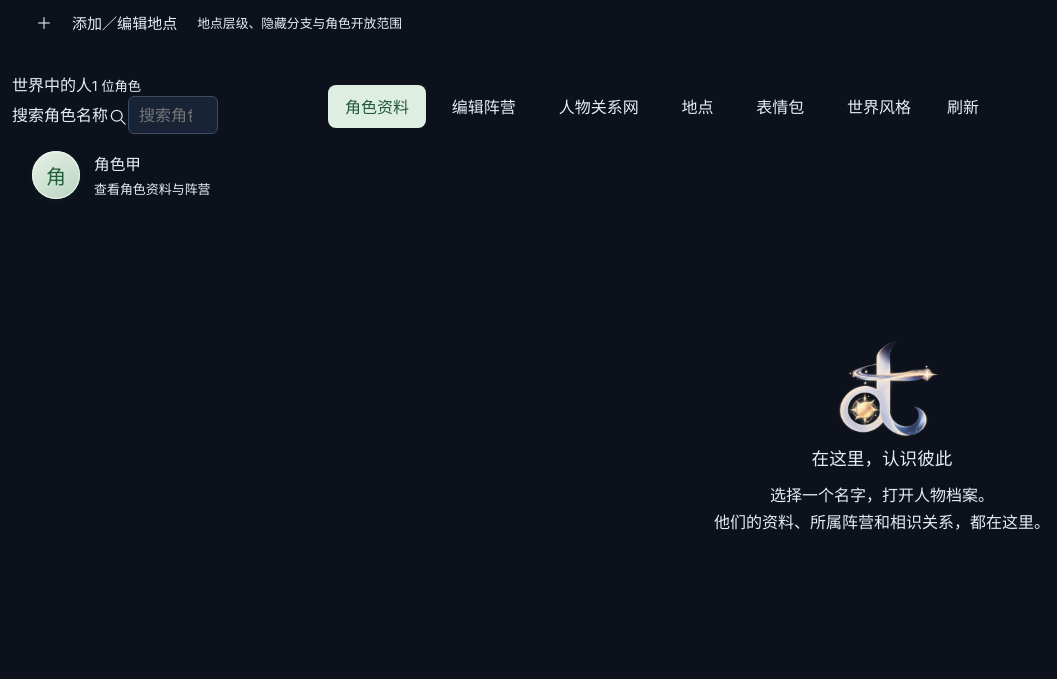
Test: shows the imported greeting as source preview without creating a chat message
The width and height of the screenshot is (1057, 679).
Click the button named "角色甲查看角色资料与阵营": (56, 175) 12,134 -> 312,216
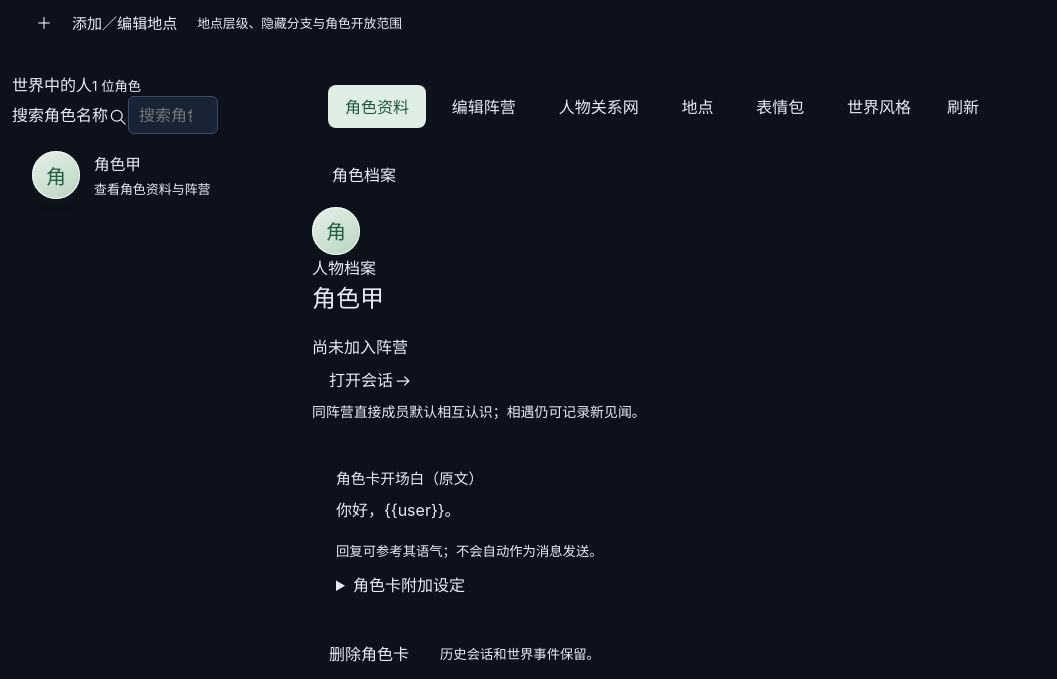
Expected: the text "你好，{{user}}。" is shown, 336,500 -> 460,520
Expected: the text "回复可参考其语气；不会自动作为消息发送。" is shown, 336,543 -> 603,559
